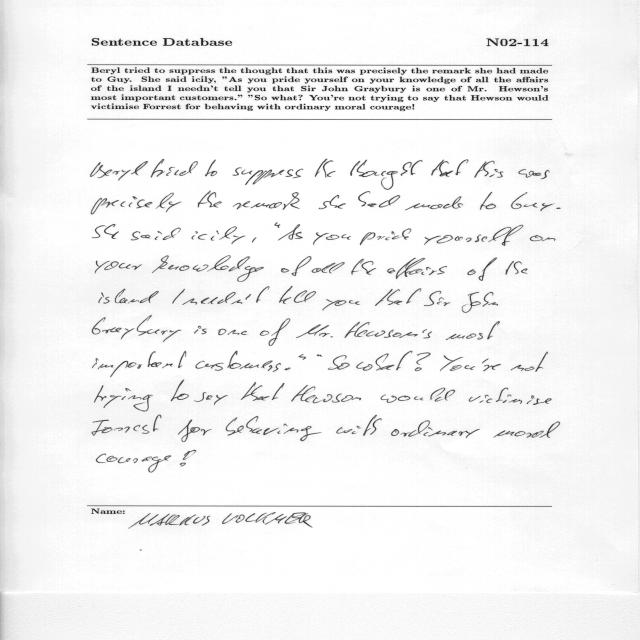word: (152, 255, 264, 282), (93, 351, 186, 377), (226, 416, 322, 441), (92, 316, 182, 342), (351, 160, 423, 190), (424, 225, 523, 246), (91, 193, 181, 215), (195, 351, 281, 372), (182, 286, 270, 305), (391, 420, 480, 438), (94, 386, 153, 412), (344, 322, 432, 339), (92, 415, 161, 436), (97, 454, 172, 473), (469, 388, 552, 405), (233, 167, 304, 185), (387, 258, 447, 279), (291, 385, 361, 403), (233, 192, 300, 210), (90, 161, 148, 181), (356, 351, 413, 371), (494, 421, 561, 438), (381, 388, 455, 403), (446, 321, 500, 340), (336, 415, 382, 436), (99, 289, 159, 304), (360, 229, 411, 246), (151, 159, 198, 177), (260, 318, 290, 346), (241, 382, 285, 401), (375, 288, 421, 306), (405, 197, 463, 211), (511, 192, 553, 211), (178, 420, 212, 443), (462, 292, 498, 313), (511, 352, 548, 372), (467, 257, 497, 281), (431, 159, 469, 177), (358, 191, 400, 207), (279, 286, 316, 304), (131, 228, 181, 241), (192, 227, 238, 241), (95, 261, 142, 274), (281, 256, 311, 276), (252, 223, 280, 243), (440, 356, 475, 372), (296, 324, 333, 338), (313, 232, 351, 245), (475, 161, 504, 178), (322, 299, 360, 311), (194, 392, 228, 405), (278, 224, 303, 241), (92, 224, 119, 239), (352, 259, 377, 275), (424, 291, 450, 306), (198, 191, 222, 207), (315, 159, 336, 177), (319, 195, 346, 209), (171, 380, 189, 401), (312, 262, 345, 273), (328, 355, 350, 370), (519, 169, 550, 179), (506, 261, 528, 275), (180, 450, 197, 467), (480, 192, 496, 210), (415, 353, 431, 371), (482, 359, 501, 372), (205, 160, 217, 177), (172, 289, 185, 304), (218, 329, 247, 335), (530, 235, 556, 241), (232, 236, 246, 244), (194, 326, 207, 334), (299, 354, 306, 360), (317, 354, 322, 357), (285, 368, 291, 370), (556, 207, 561, 209)
